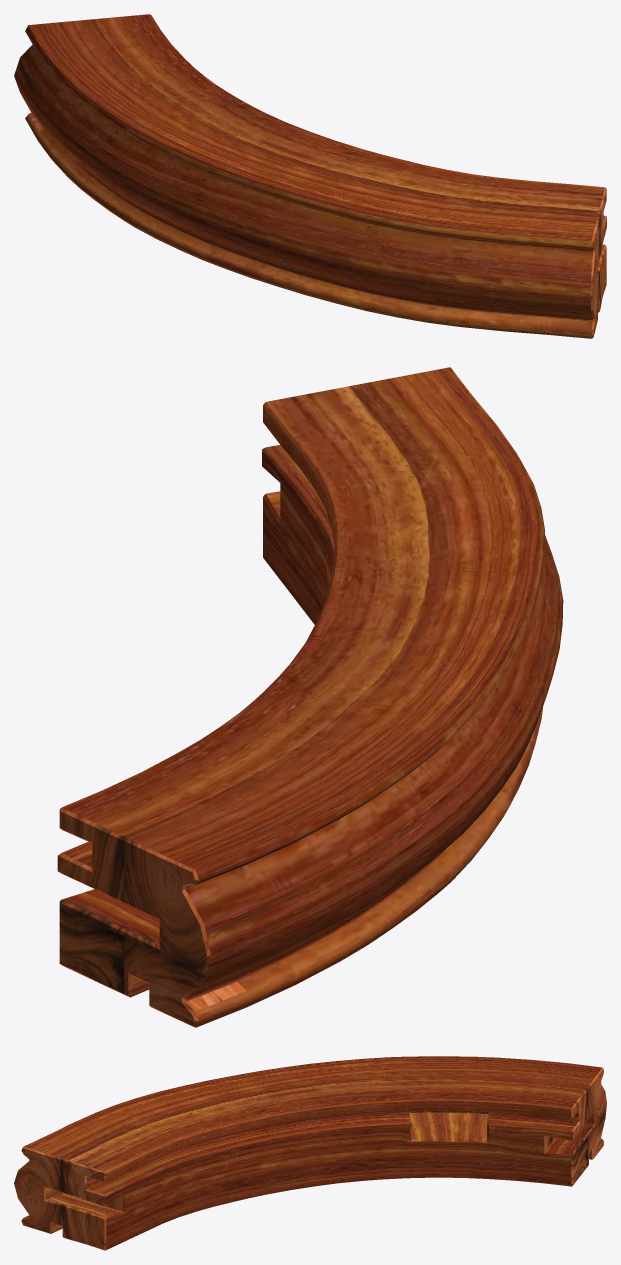
The model's file is YuanDeng_J_D_biankuang_006.FBX.
3 views of the same model, one above another, from view 1: azimuth 30°, elevation 25°; view 2: azimuth 150°, elevation 25°; view 3: azimuth 270°, elevation 25° (orthographic). The views are drawn at different scales.
Parts seen in each view (by area): view 1: YuanDeng_J_D_biankuang_006; view 2: YuanDeng_J_D_biankuang_006; view 3: YuanDeng_J_D_biankuang_006.
Part boxes in pixels (left/top/right/bottom): YuanDeng_J_D_biankuang_006: left=14, top=14, right=606, bottom=338; YuanDeng_J_D_biankuang_006: left=57, top=367, right=563, bottom=1027; YuanDeng_J_D_biankuang_006: left=14, top=1056, right=606, bottom=1250.
Bounding box in the file's own units: 11.52 × 3.57 × 23.84.
Materials: 2 (2 with a texture image).
